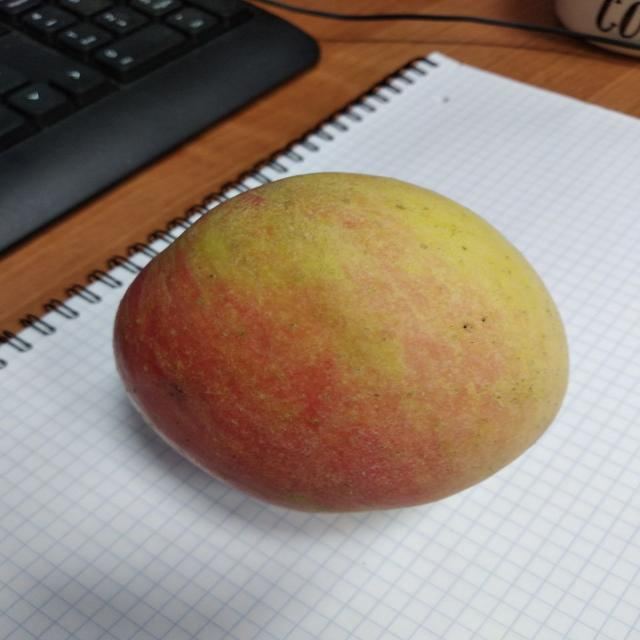Fresh Apple: (127, 184, 553, 504)
